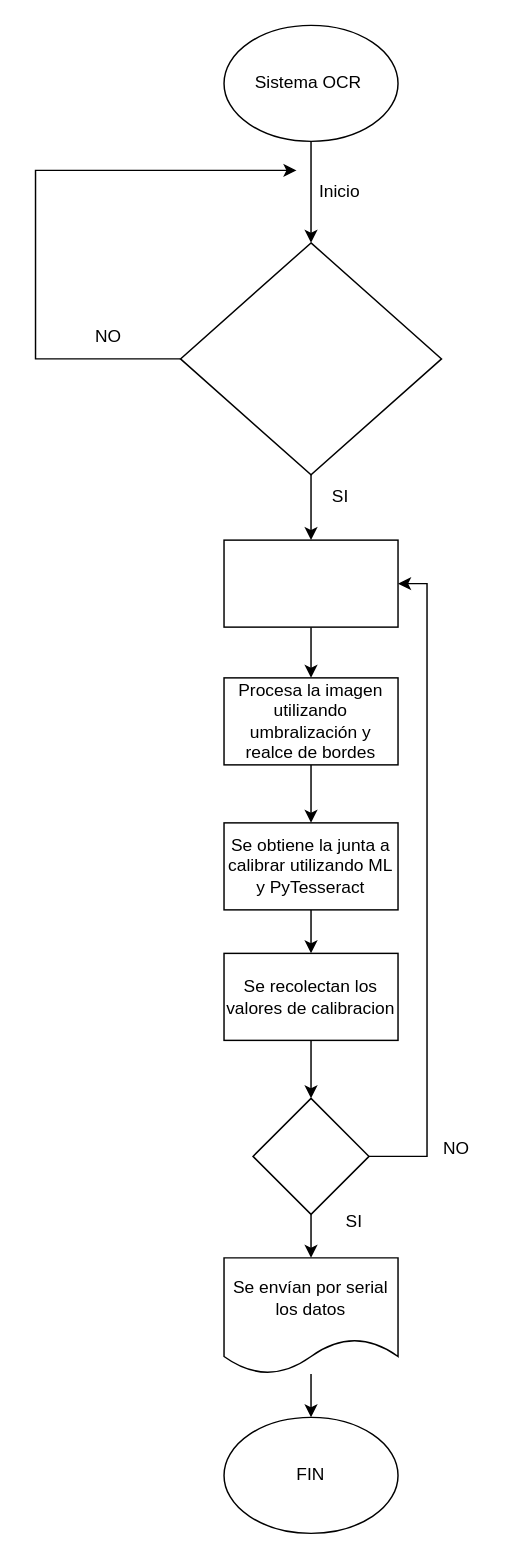
Some shapes in this 510 by 1559 pixel diagram are drawn without their labels. Each missing label, with the centre of its shape:
"El sistema detecta posibilidad de detección?" goes at point (310, 358).
"Obtiene imagen" goes at point (310, 583).
"se tienen todas las juntas?" goes at point (310, 1155).
